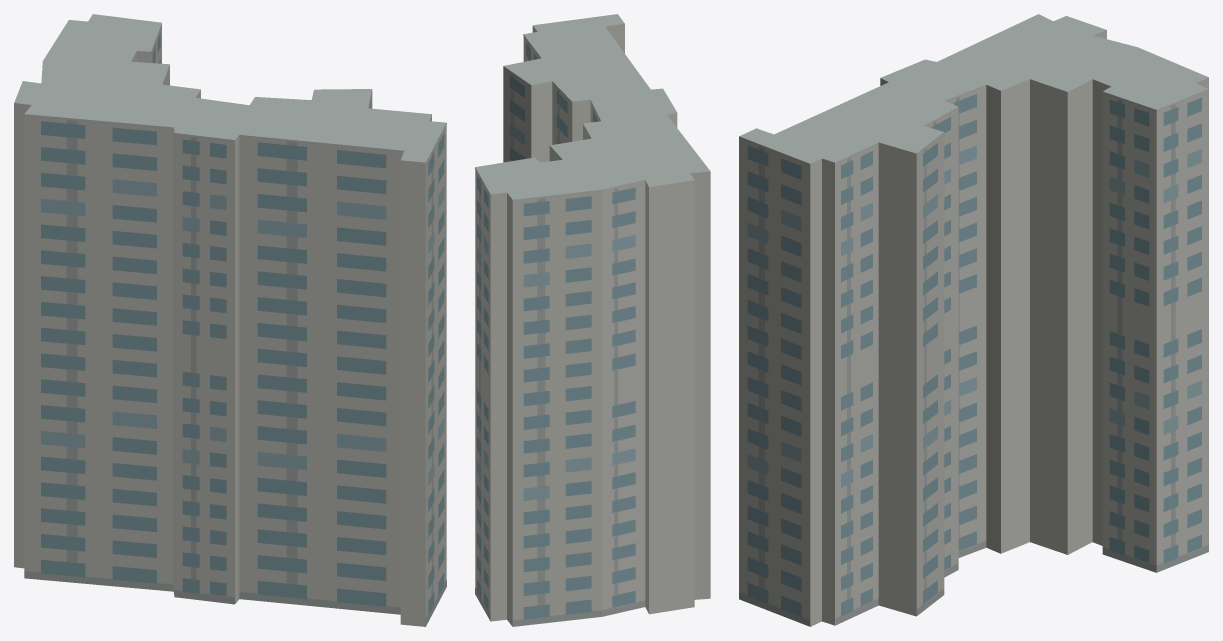
File: residential-04d878cf-deea-4421-aff8-22078709109f.glb
3 renders of one model, left to right at view 1: azimuth 30°, elevation 25°; view 2: azimuth 150°, elevation 25°; view 3: azimuth 270°, elevation 25°, orthographic. The views are drawn at different scales.
Parts seen in each view (by area): view 1: residential-04d878cf-deea-4421-aff8-22078709109f.tmp; view 2: residential-04d878cf-deea-4421-aff8-22078709109f.tmp; view 3: residential-04d878cf-deea-4421-aff8-22078709109f.tmp.
Part boxes in pixels (left/top/right/bottom): residential-04d878cf-deea-4421-aff8-22078709109f.tmp: left=14, top=14, right=446, bottom=626; residential-04d878cf-deea-4421-aff8-22078709109f.tmp: left=475, top=14, right=710, bottom=626; residential-04d878cf-deea-4421-aff8-22078709109f.tmp: left=739, top=14, right=1208, bottom=626.
Bounding box in the file's own units: 38.14 × 54.9 × 50.49.
